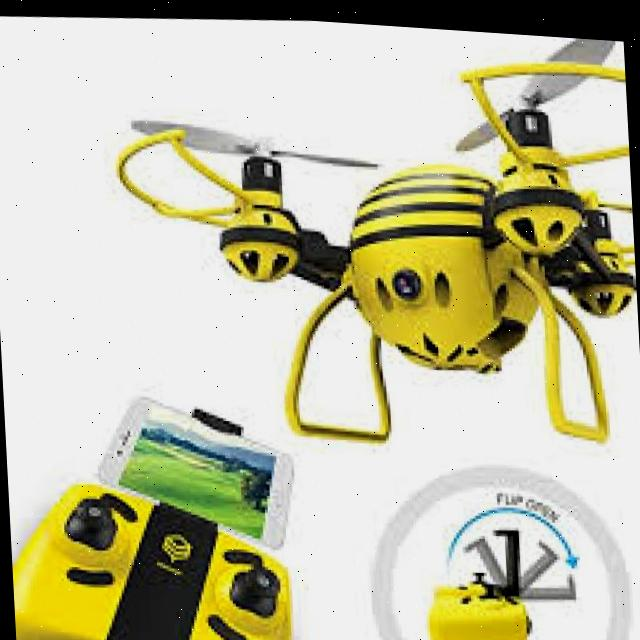drone: (98, 5, 640, 494)
